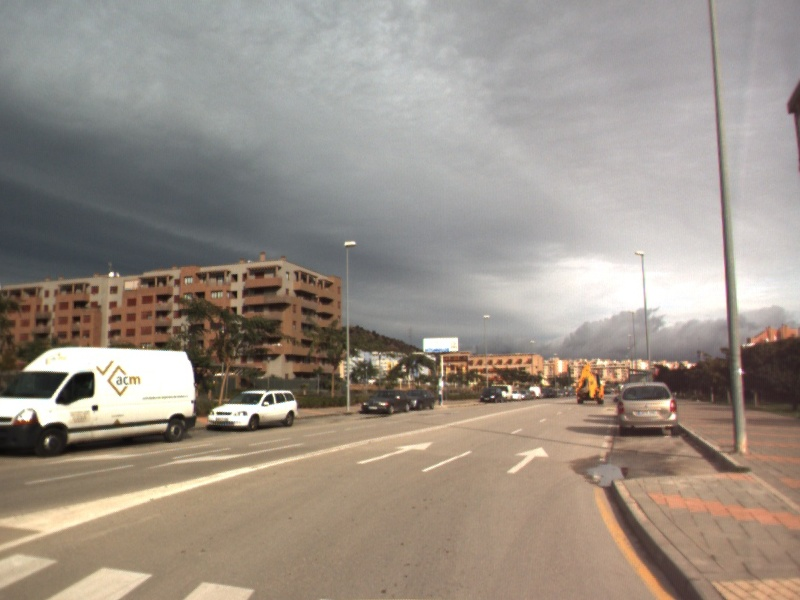STRAIGHT: (354, 440, 435, 466), (505, 445, 551, 475)
